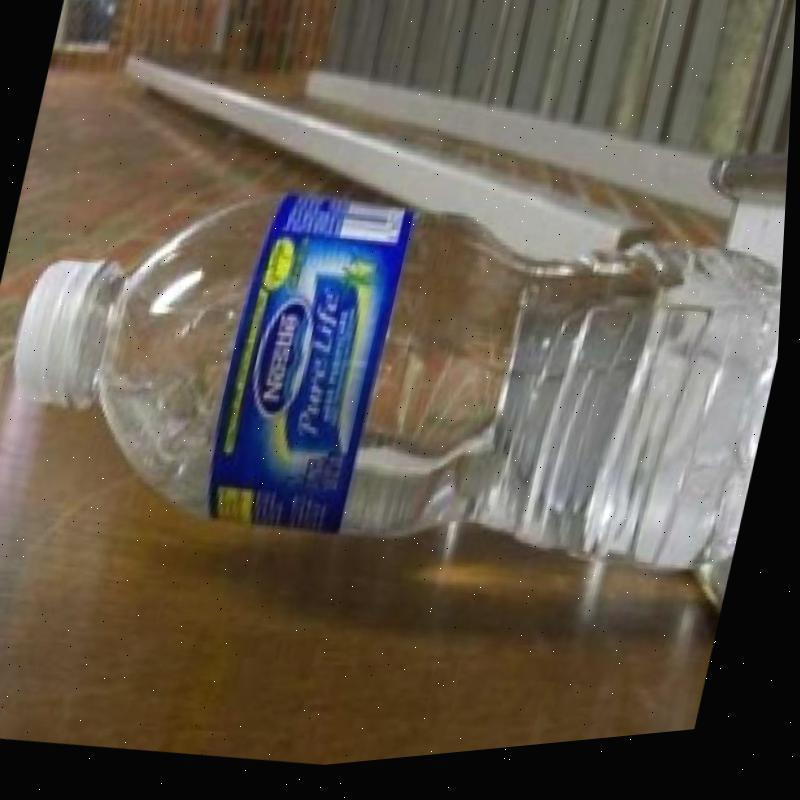botella: (0, 104, 793, 649)
